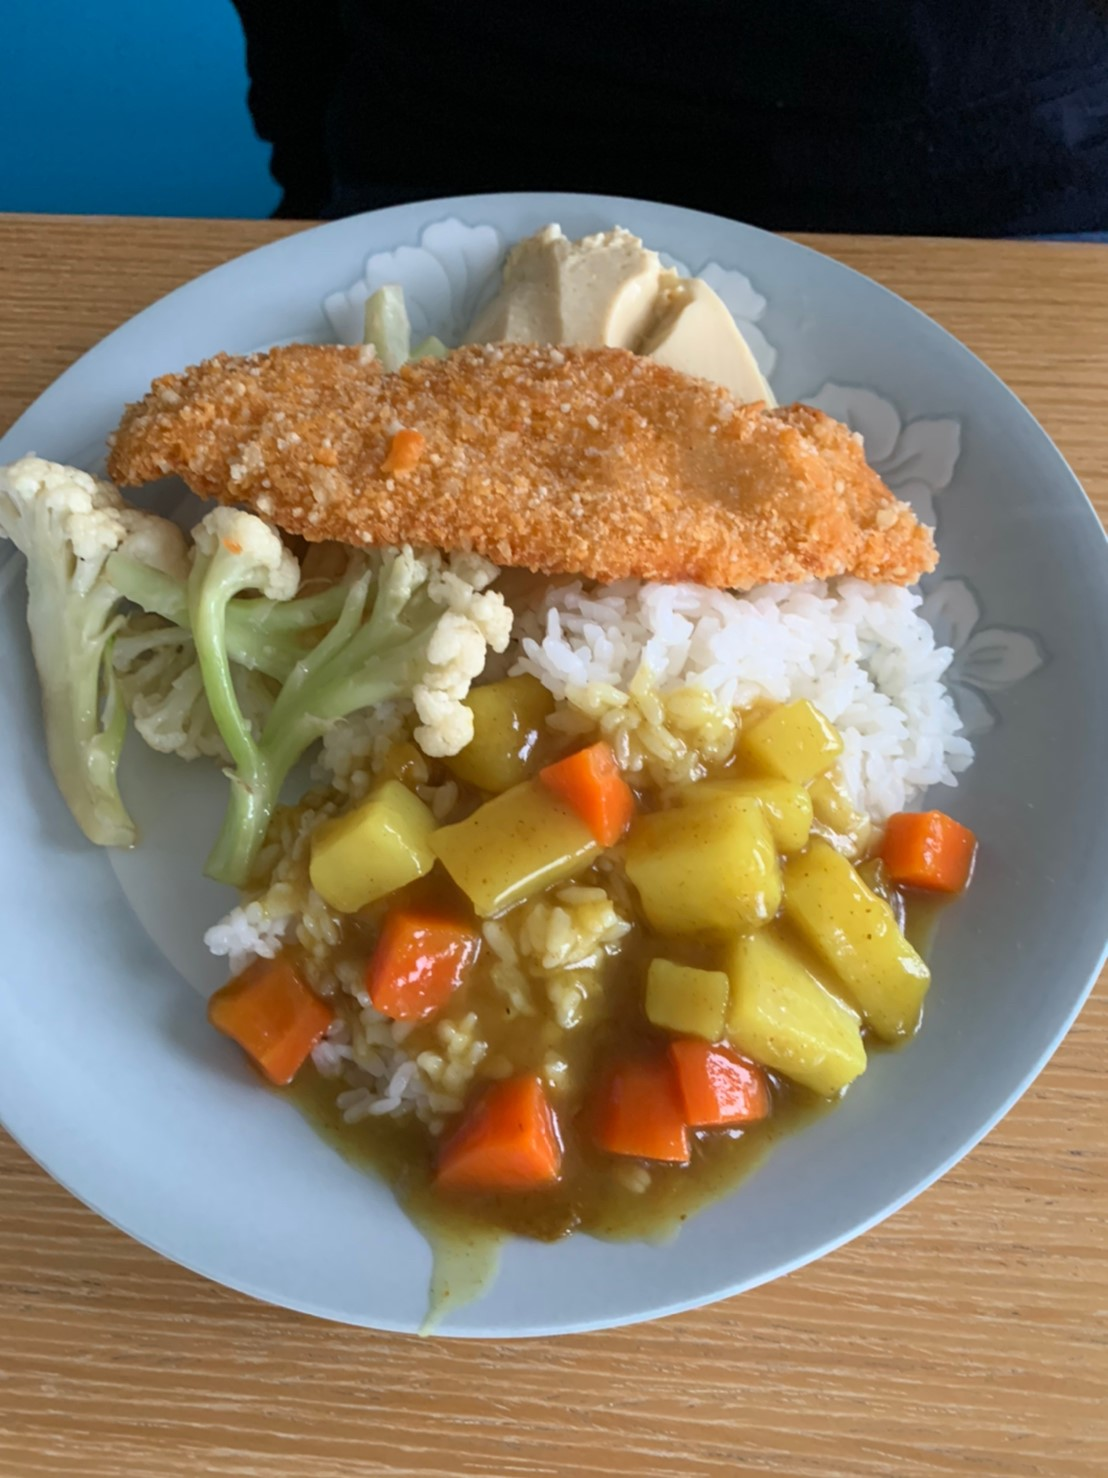curry: (187, 692, 985, 1245)
fried_chicken: (102, 339, 950, 590)
rice: (554, 569, 975, 806)
